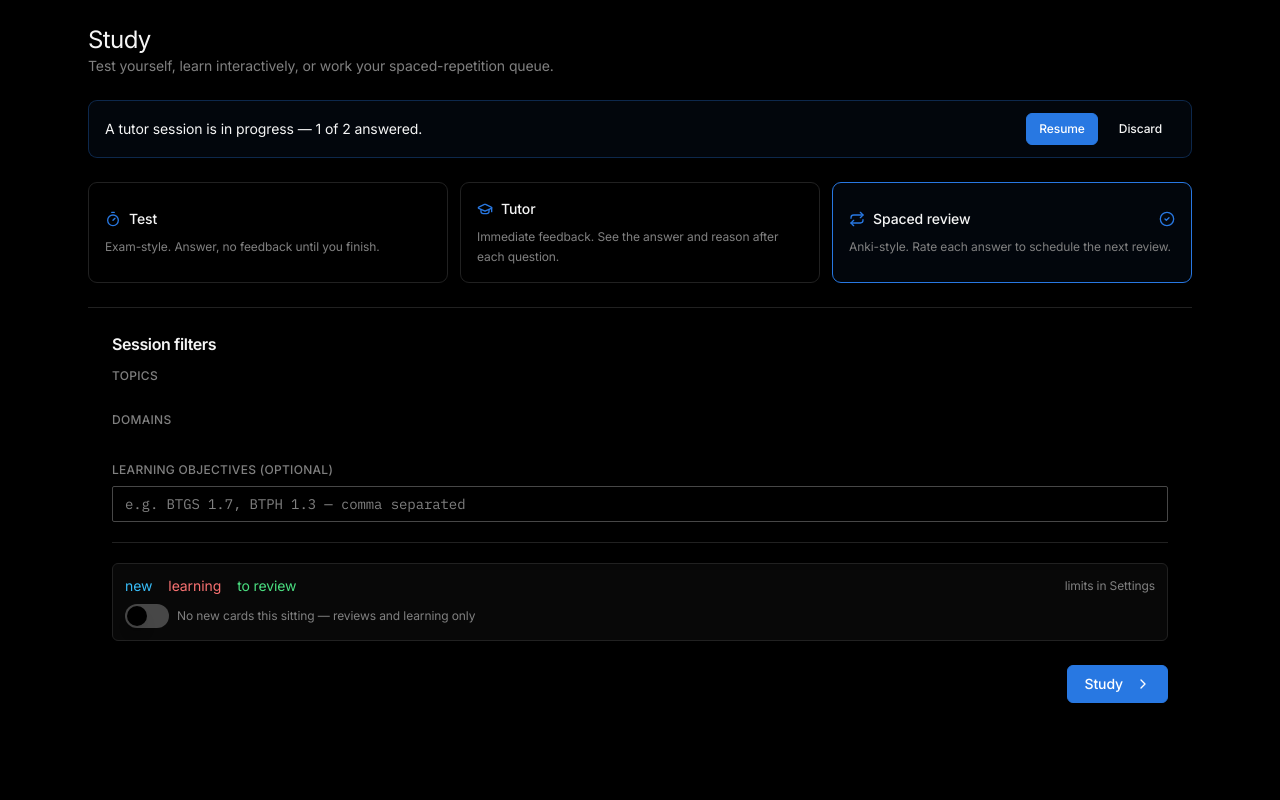
a sitting the server no longer has › finishing after a reset/restore (404) drops the snapshot and returns to the start instead of 'press Finish again'
Step 1. Click the button with test id "button-study-resume" → click(1062, 129), box [1026,113,1098,145]
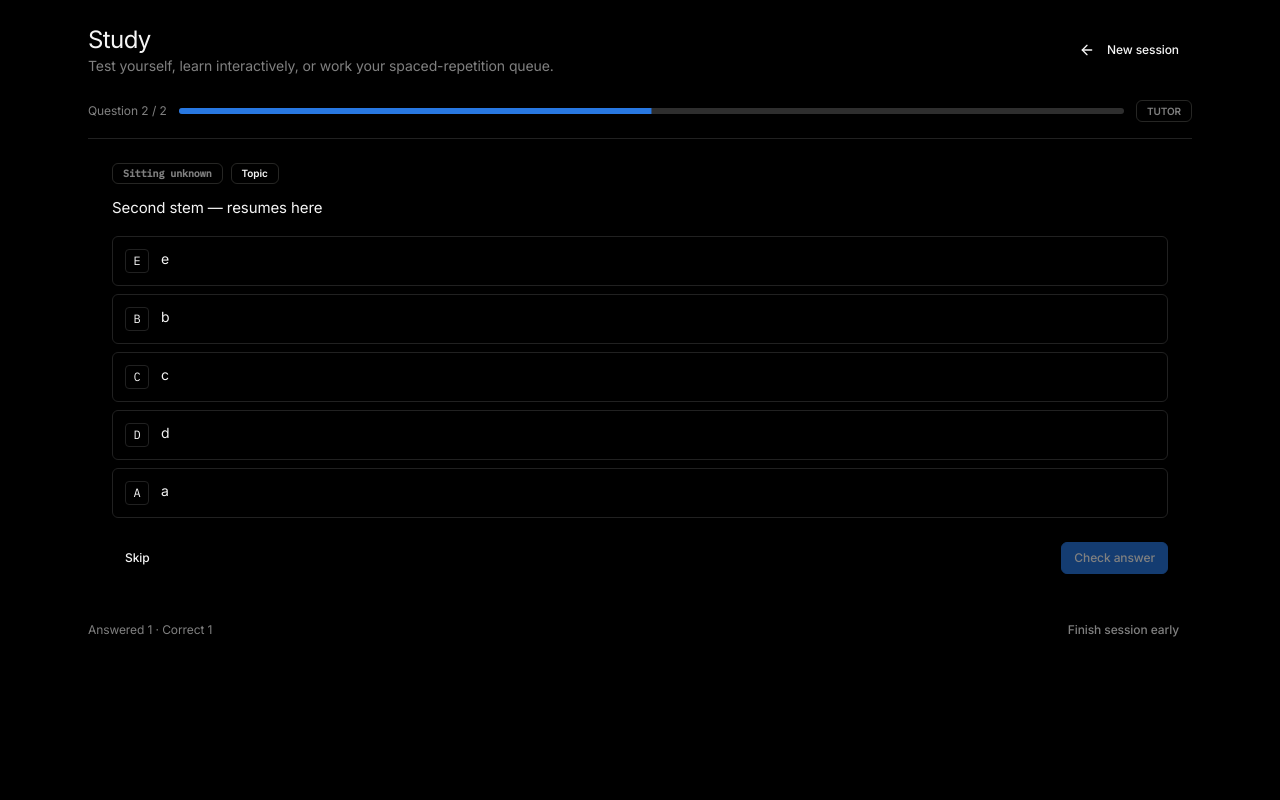
Check: the text "Second stem — resumes here" is shown, box [112,198,322,217]
// Answer the last question and advance — that is the finish.
Step 2. Click the button with test id "button-option-A" → click(137, 493), box [112,468,1168,518]
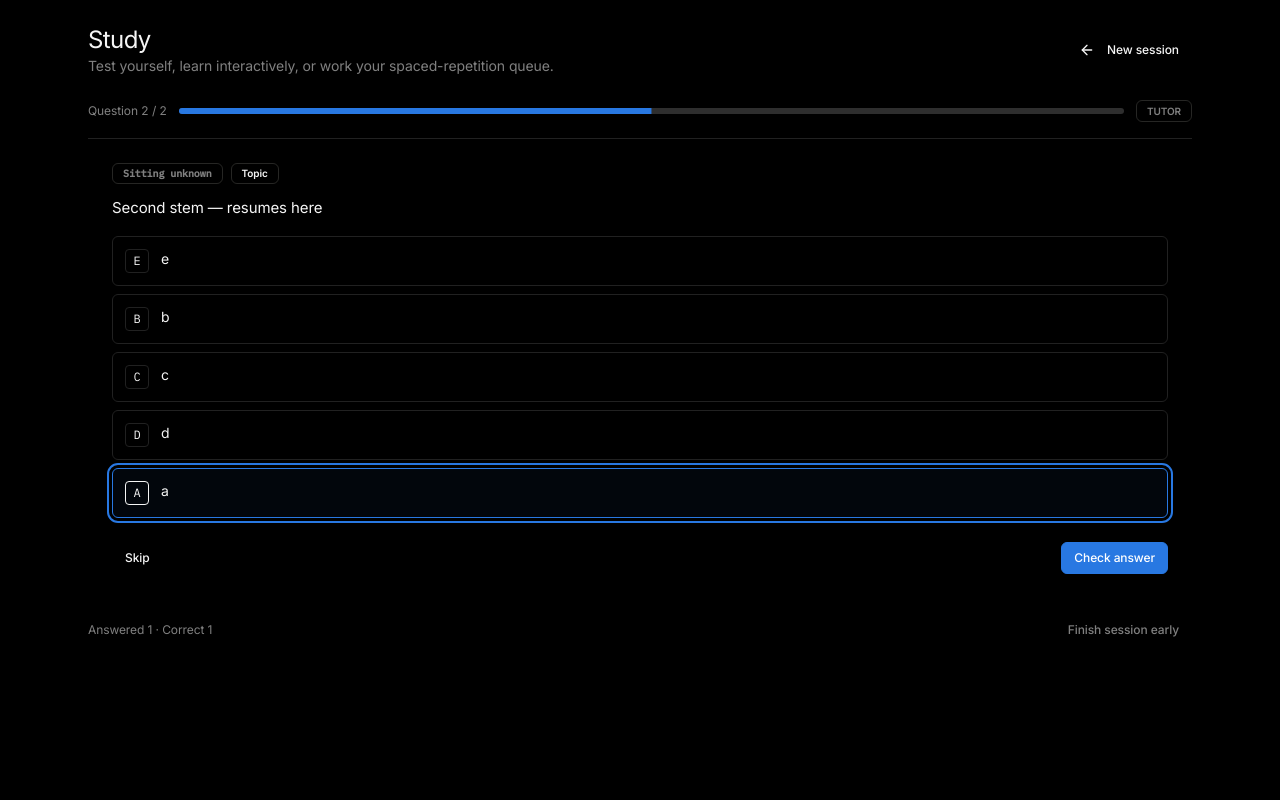
Step 3. Click the button with test id "button-submit" → click(1115, 558), box [1061,542,1168,574]
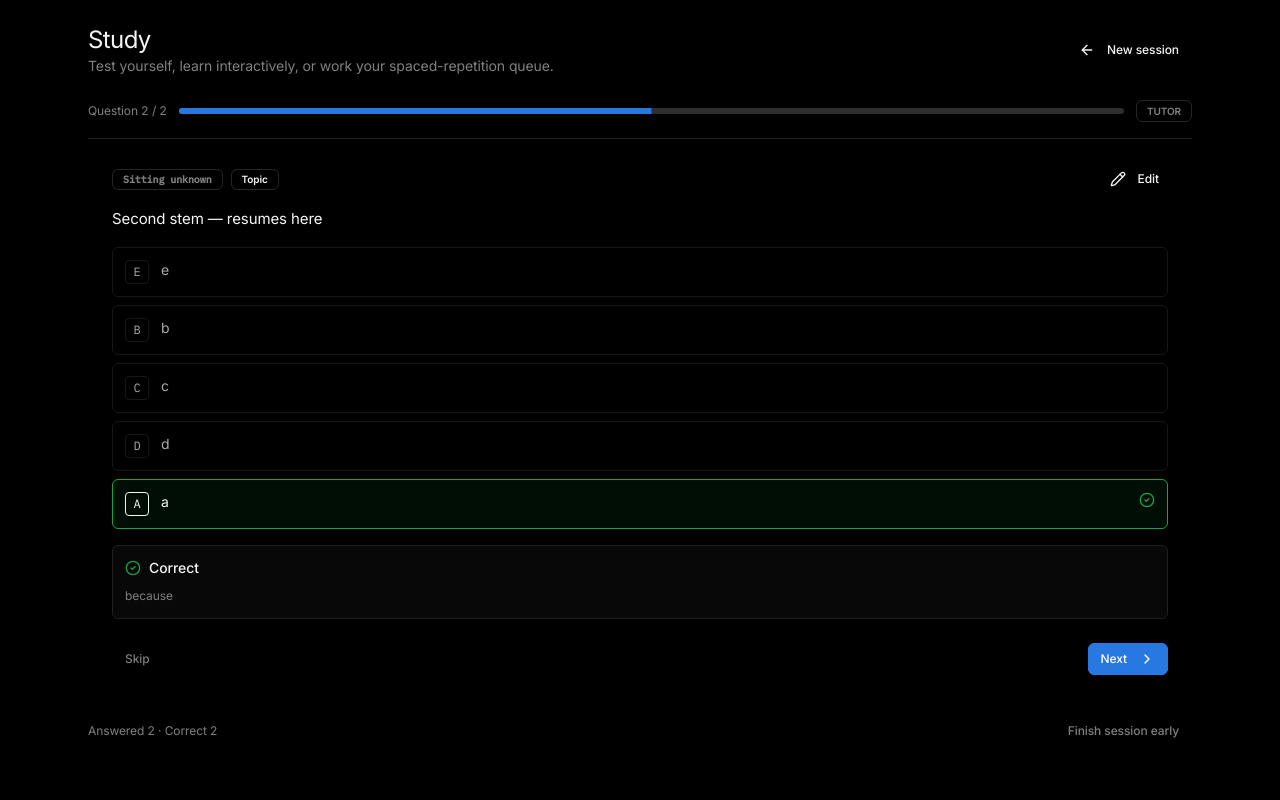
Check: the element with test id "panel-feedback" is shown, box [112,545,1168,619]
Step 4. Click the button with test id "button-next" → click(1128, 659), box [1088,643,1168,675]
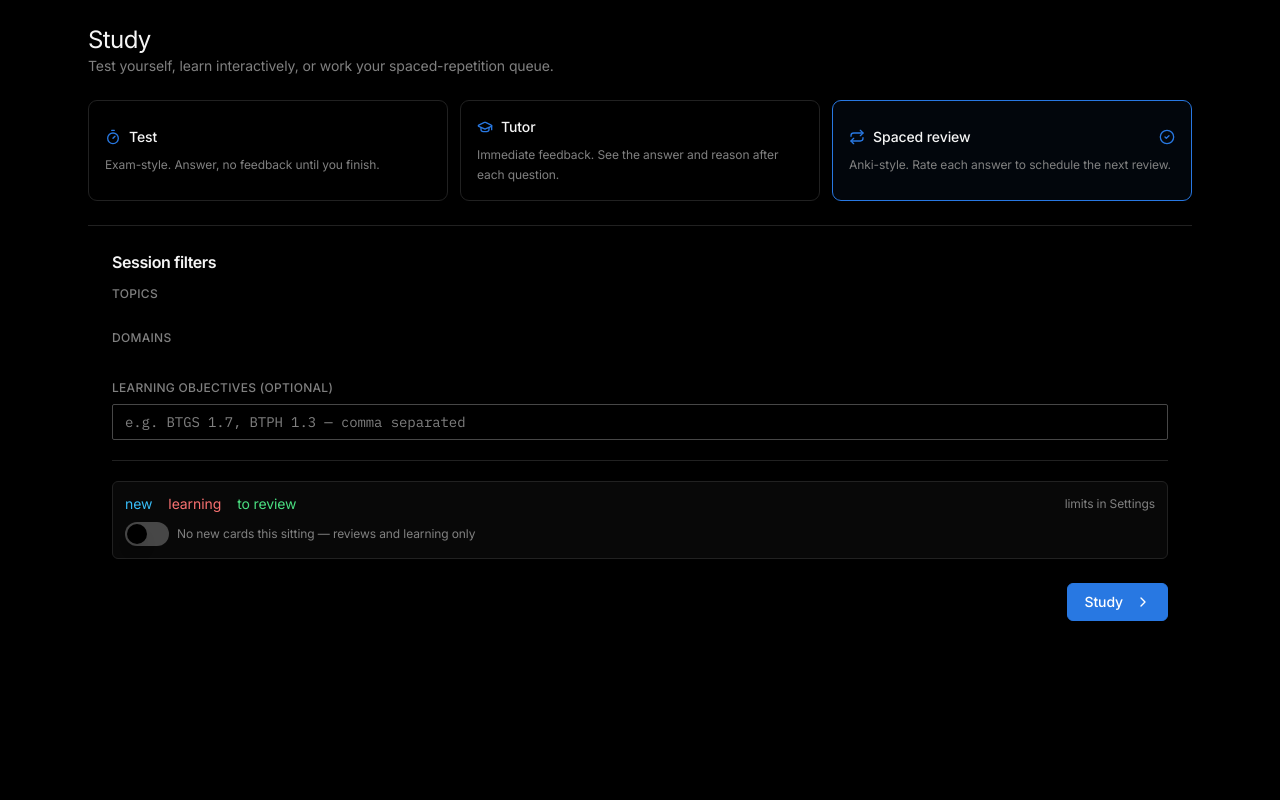
Check: the button with test id "button-start-session" is shown, box [1067,583,1168,621]
